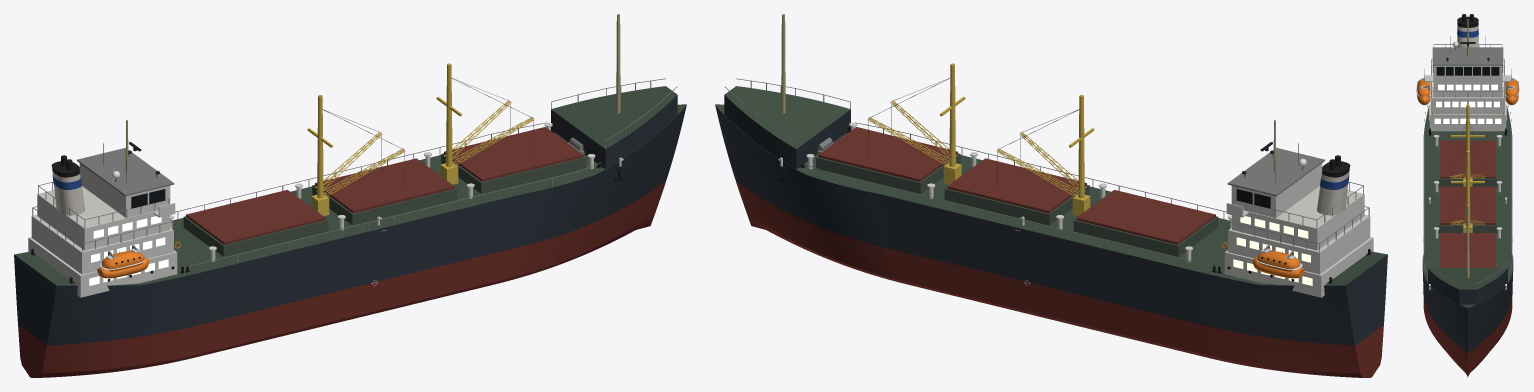
File: cargo80.glb
The picture shows the model from 3 angles, left to right: view 1: azimuth 30°, elevation 25°; view 2: azimuth 150°, elevation 25°; view 3: azimuth 270°, elevation 25°; orthographic projection. The views are drawn at different scales.
Visible parts, largest first — view 1: cargo80; view 2: cargo80; view 3: cargo80.
Boxes of the visible parts, <box> form: cargo80: <box>14,14,686,377</box>; cargo80: <box>715,14,1387,377</box>; cargo80: <box>1416,14,1519,377</box>.
Size of the model in its own units: 81.5 by 27.68 by 15.13.
